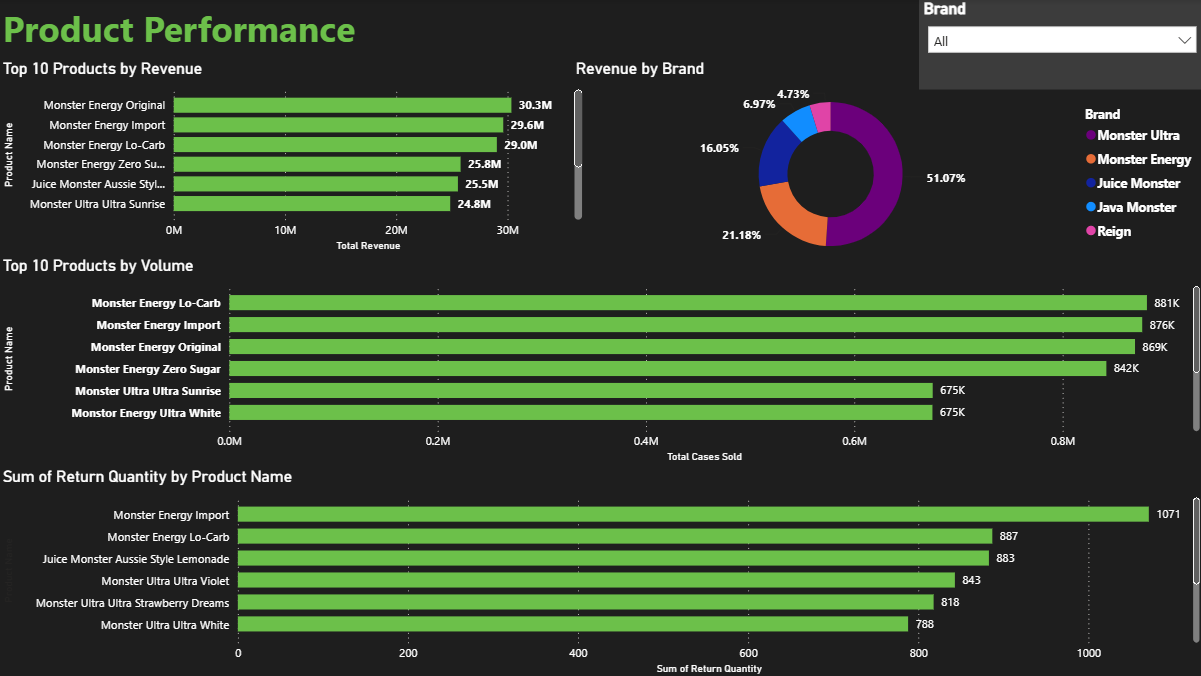

Layout of this report page (visuals, bound fields, positions):
{"tool":"powerbi","page":{"name":"Product Performance","canvas":[1280,720],"ordinal":1},"visuals":[{"type":"clusteredBarChart","title":"Top 10 Products by Revenue","fields":{"Category":["dim_products.product_name"],"Y":["KPI Measures.Total Revenue"]},"box":[0,64,624,208],"z":0},{"type":"donutChart","title":"Revenue by Brand","fields":{"Category":["dim_products.brand"],"Y":["KPI Measures.Total Revenue"]},"box":[608,64,672,224],"z":1000},{"type":"clusteredBarChart","title":"Top 10 Products by Volume","fields":{"Category":["dim_products.product_name"],"Y":["KPI Measures.Total Cases Sold"]},"box":[0,272,1280,224],"z":2000},{"type":"clusteredBarChart","fields":{"Y":["Sum(fact_returns.return_quantity)"],"Category":["dim_products.product_name"]},"box":[0,496,1280,224],"z":3000},{"type":"textbox","box":[0,0,432,64],"z":4000},{"type":"slicer","title":"Brand","fields":{"Values":["dim_products.brand"]},"box":[976,0,304,96],"z":4001}]}

Visuals, with their boxes in screenshot pixels (x1, y1, x2, y2), scaled from the page's 1280x720 canvas onto the 1201x676 screenshot:
"Top 10 Products by Revenue" clusteredBarChart: l=0, t=60, r=585, b=255
"Revenue by Brand" donutChart: l=570, t=60, r=1200, b=270
"Top 10 Products by Volume" clusteredBarChart: l=0, t=255, r=1200, b=466
clusteredBarChart - Sum(fact_returns.return_quantity) x dim_products.product_name: l=0, t=466, r=1200, b=675
textbox: l=0, t=0, r=405, b=60
"Brand" slicer: l=916, t=0, r=1200, b=90
